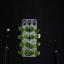leaf: (35, 42, 41, 48), (18, 50, 24, 56), (19, 26, 24, 32), (24, 26, 29, 32), (18, 35, 24, 40), (30, 34, 35, 40), (35, 34, 41, 39), (19, 42, 24, 48), (34, 51, 40, 56), (35, 28, 40, 33), (24, 50, 29, 55), (30, 26, 34, 32), (30, 44, 36, 48), (24, 34, 29, 38), (24, 42, 29, 46), (30, 51, 34, 55)
